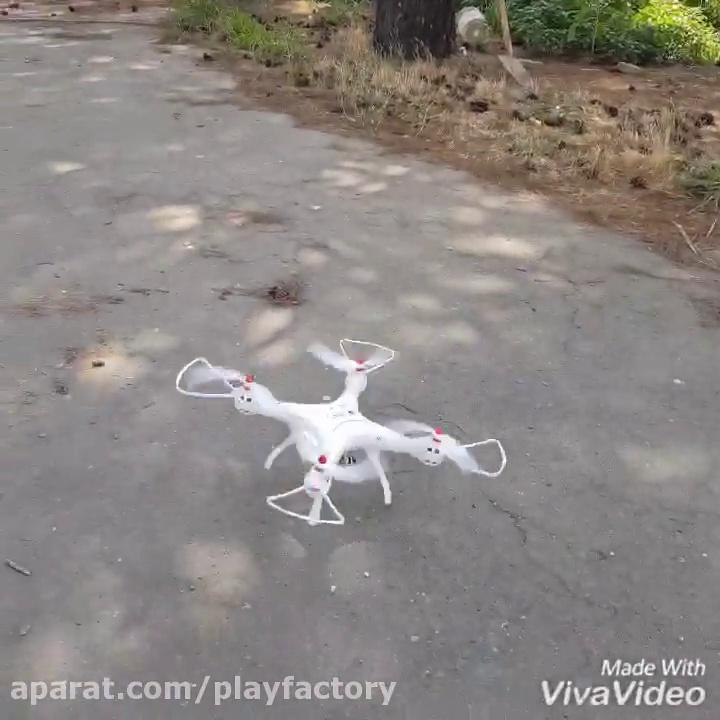drone: (172, 334, 507, 531)
